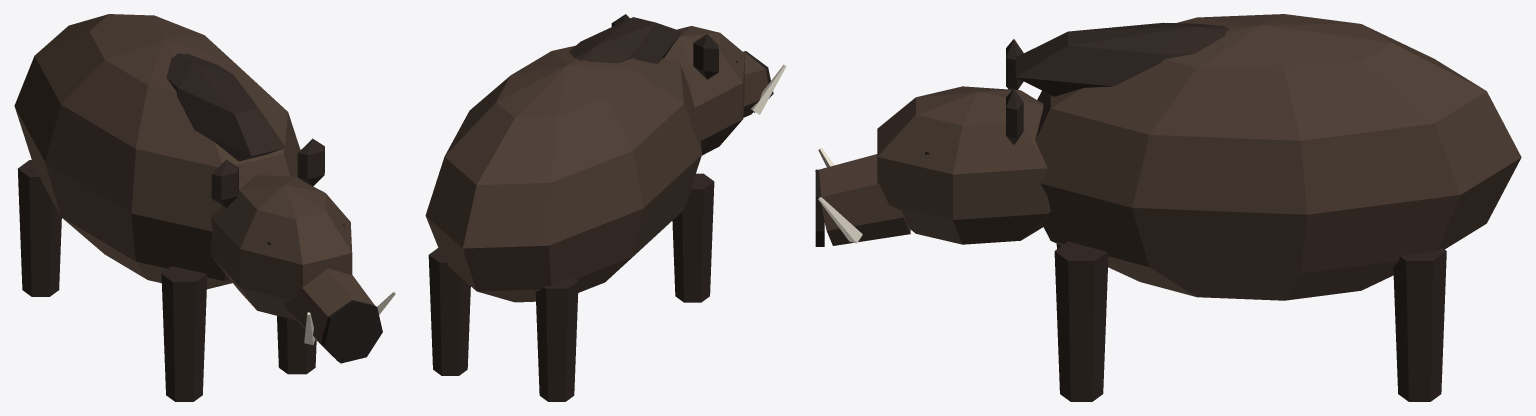
Rendered from boar.glb.
3 views of the same model, side by side, from view 1: azimuth 30°, elevation 25°; view 2: azimuth 150°, elevation 25°; view 3: azimuth 270°, elevation 25° (orthographic). The views are drawn at different scales.
Visible parts, largest first — view 1: boar; view 2: boar; view 3: boar.
Part boxes in pixels (box(x1,y1,x2,y2)): boar: box(14, 14, 396, 401); boar: box(425, 14, 786, 401); boar: box(815, 14, 1521, 401).
Size of the model in its own units: 0.6027 by 0.824 by 1.57.
